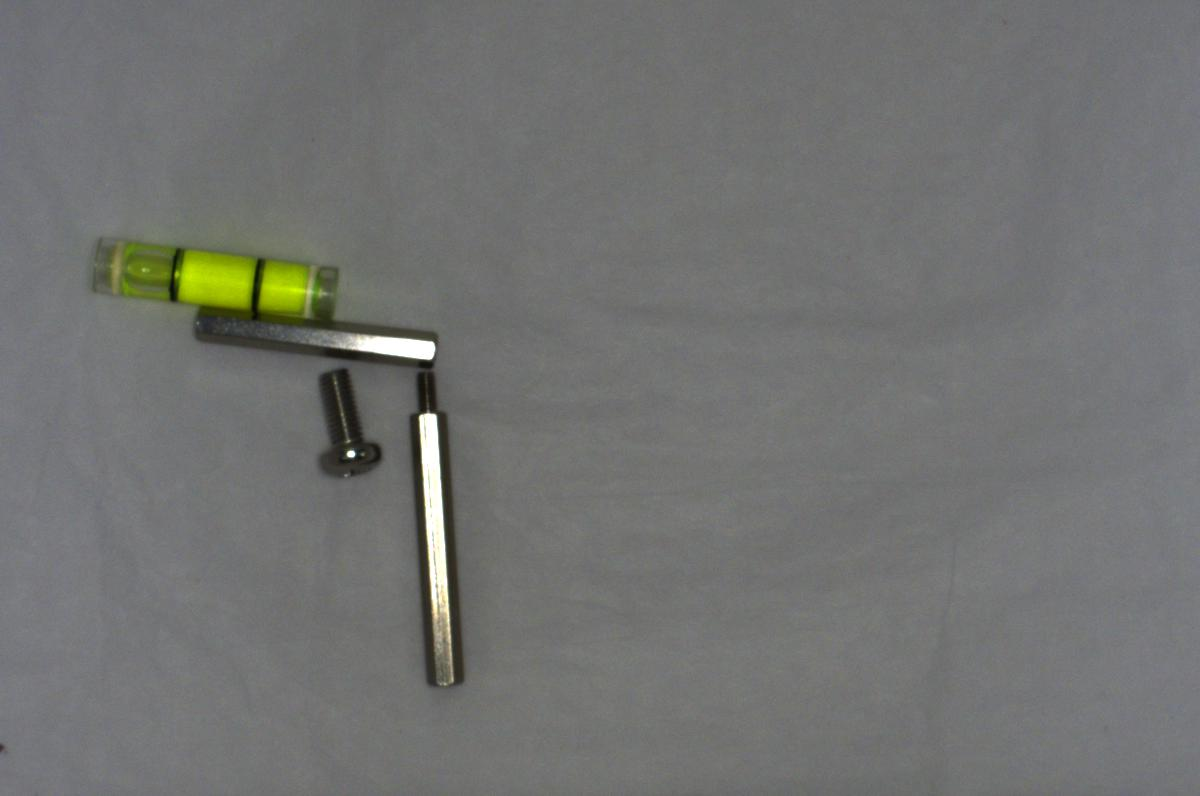Double hexagonal column: (180, 301, 445, 368)
Hexagonal steel column: (405, 363, 477, 688)
Horizontal bubble: (81, 222, 351, 325)
Round head screw: (311, 363, 397, 485)
